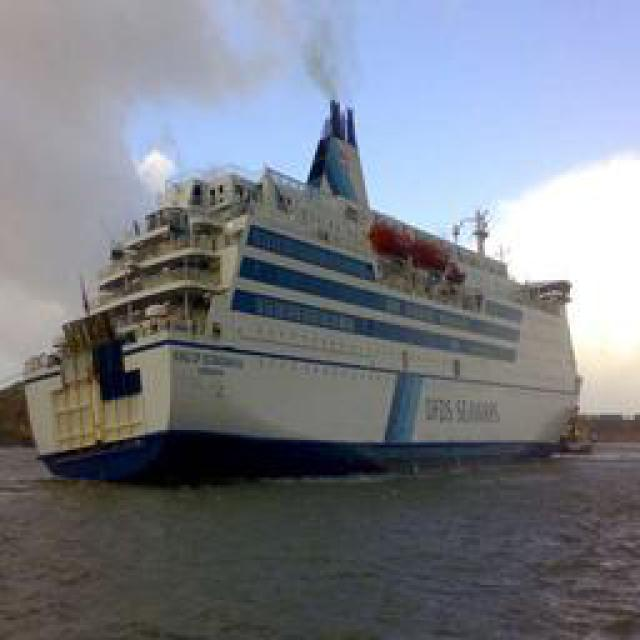Ship: (23, 96, 591, 474)
